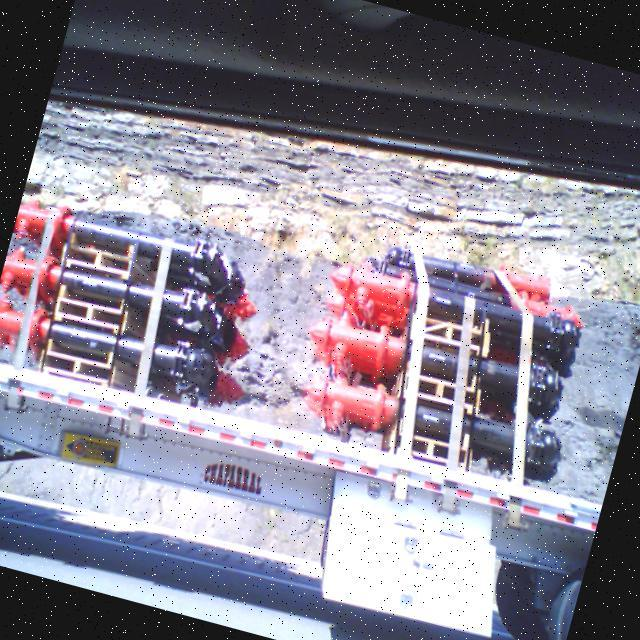fire_hydrant: (286, 360, 567, 490), (0, 280, 228, 408), (12, 194, 250, 294), (299, 302, 413, 382), (322, 253, 418, 320), (318, 282, 413, 341), (0, 241, 65, 307), (513, 289, 592, 330), (212, 321, 254, 372), (205, 368, 248, 414), (214, 285, 260, 325)
